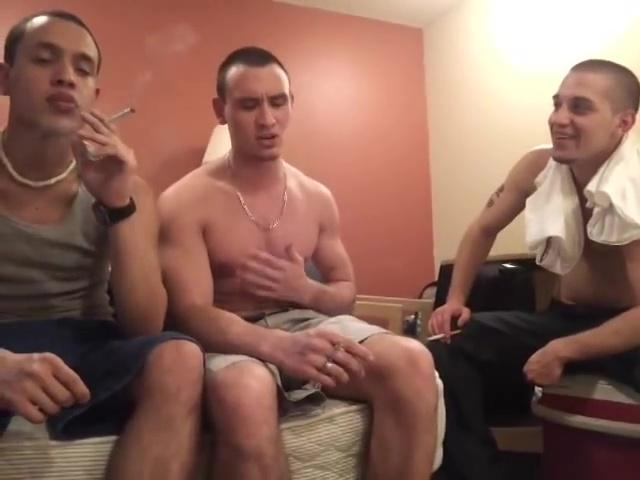cigarette: (423, 326, 464, 344), (106, 104, 137, 123)
